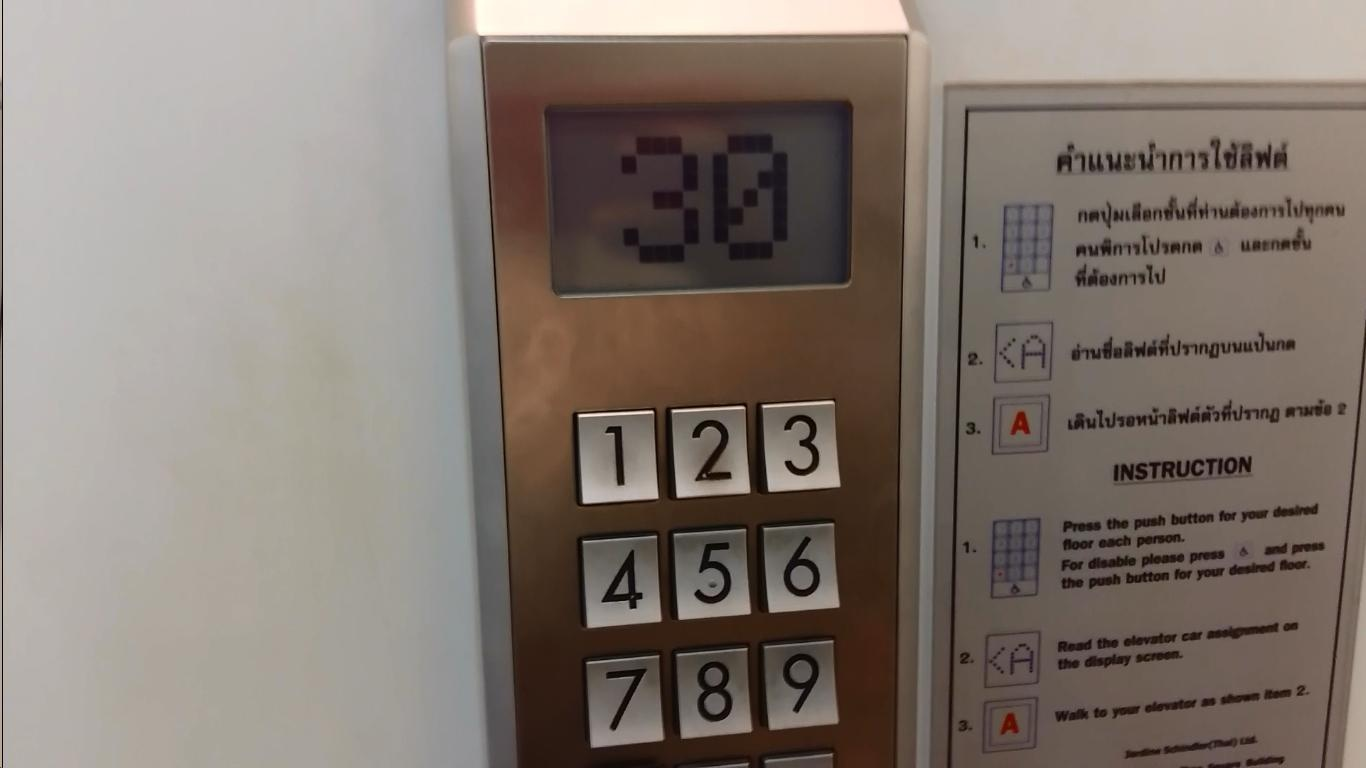1: (569, 405, 662, 507)
2: (663, 401, 752, 500)
3: (755, 397, 841, 494)
4: (574, 528, 663, 629)
5: (666, 522, 752, 621)
6: (756, 517, 842, 615)
7: (580, 648, 667, 750)
8: (669, 640, 754, 740)
9: (757, 633, 840, 731)
led: (542, 97, 860, 302)
